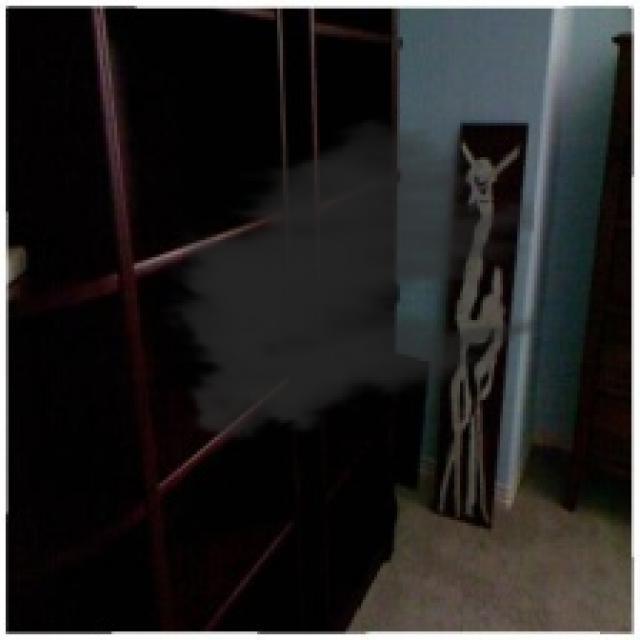smoke: (157, 109, 534, 457)
